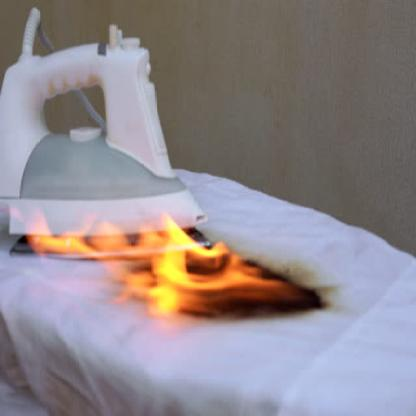fire: (22, 208, 288, 317)
